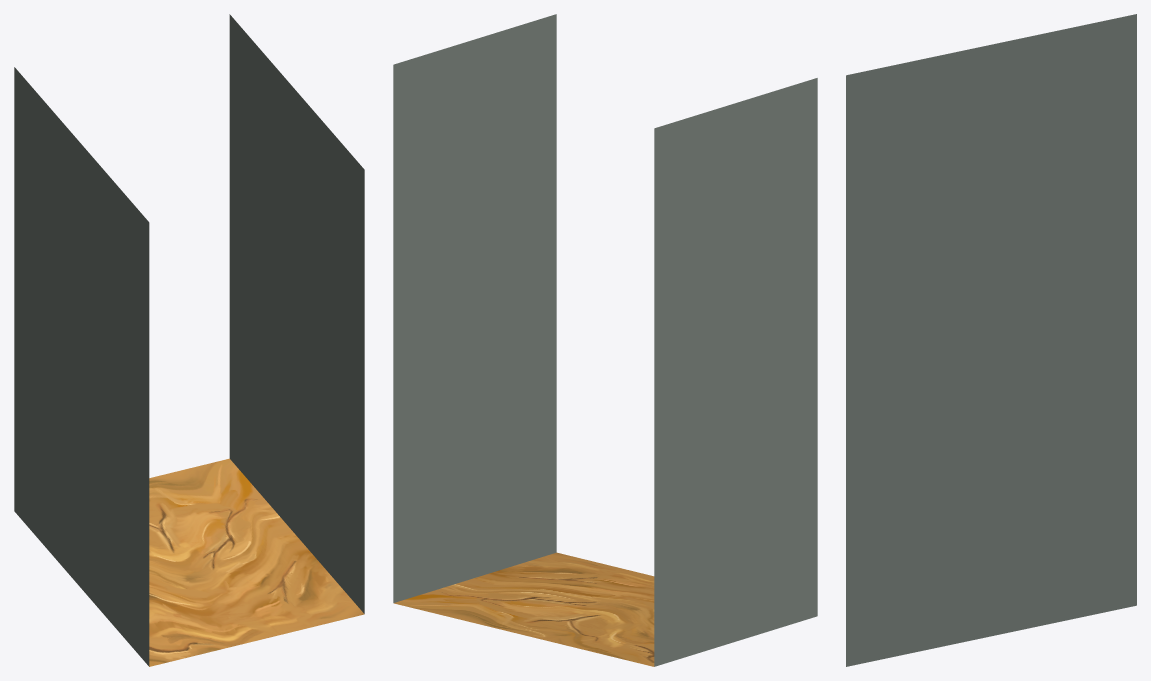
File: MudRamp1_1.fbx
3 renders of one model, left to right at view 1: azimuth 30°, elevation 25°; view 2: azimuth 150°, elevation 25°; view 3: azimuth 270°, elevation 25°, orthographic. The views are drawn at different scales.
Parts seen in each view (by area): view 1: MudRamp1; view 2: MudRamp1; view 3: MudRamp1.
Boxes of the visible parts, box(x1,y1,x2,y2) form: MudRamp1: box(14, 14, 364, 666); MudRamp1: box(393, 14, 817, 666); MudRamp1: box(846, 14, 1136, 666).
Size of the model in its own units: 950 by 2113 by 1031.
